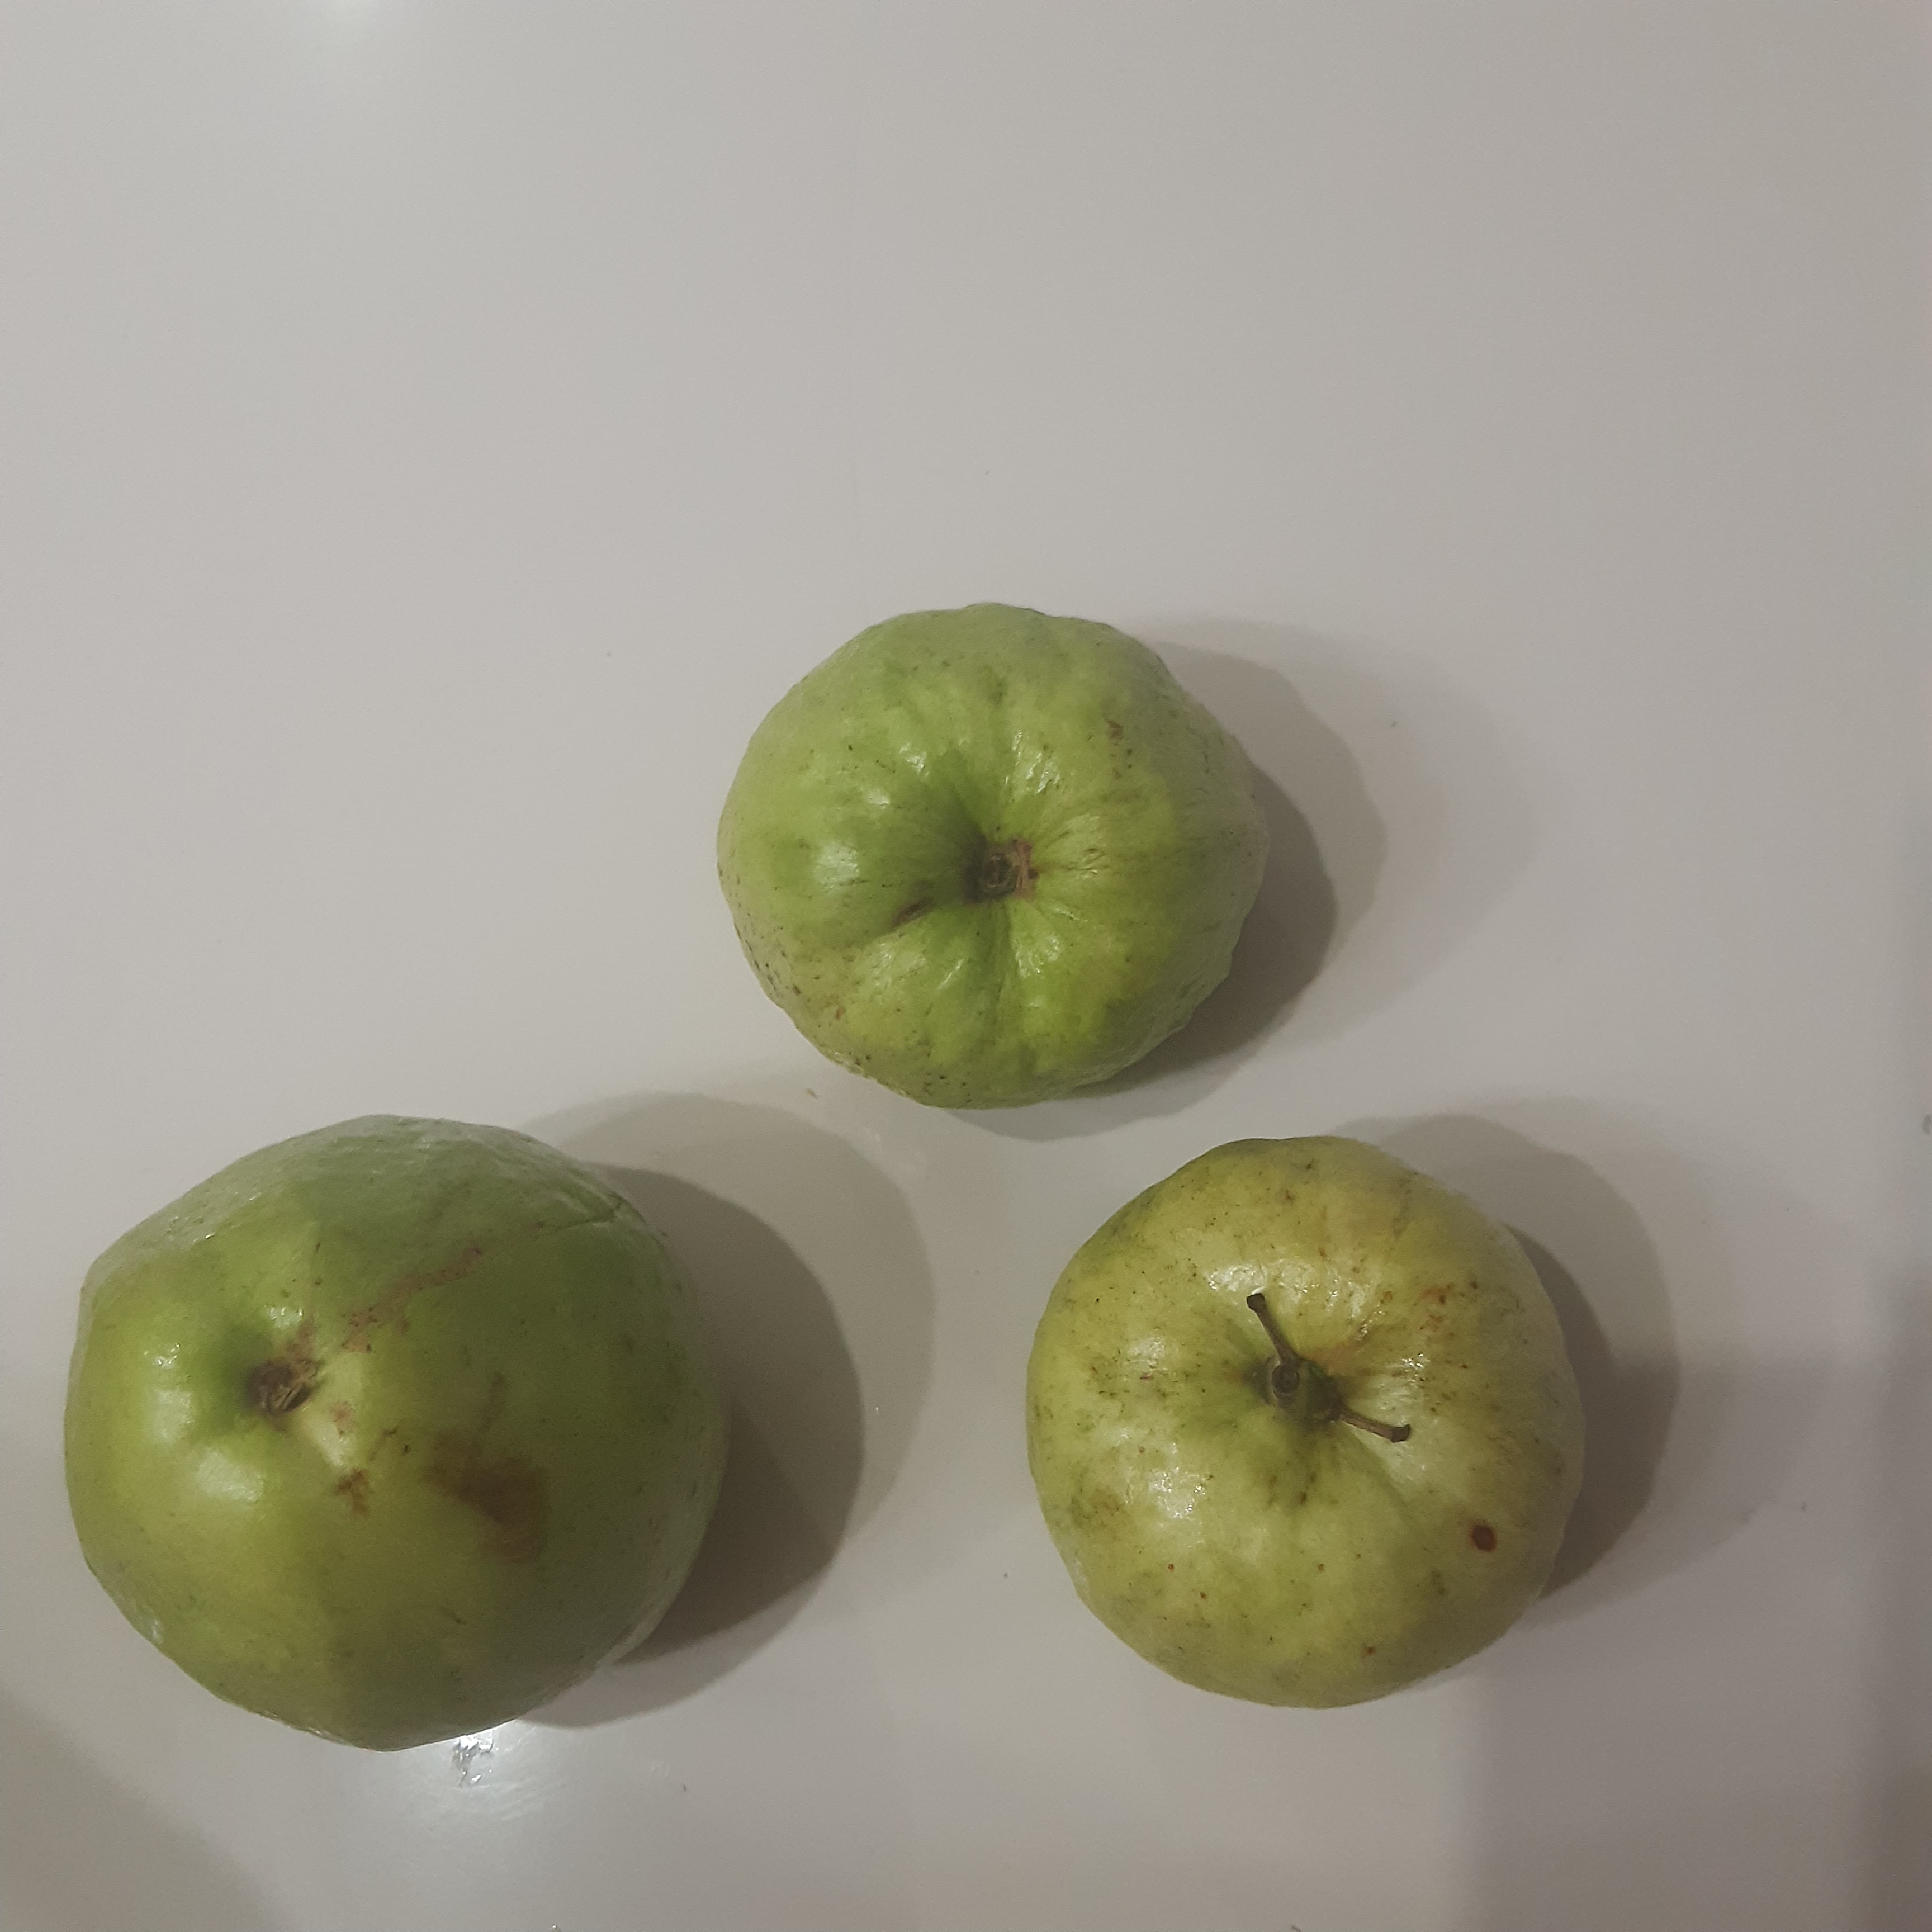Oi: (58, 1116, 732, 1755), (1026, 1125, 1587, 1709), (717, 600, 1270, 1113)
